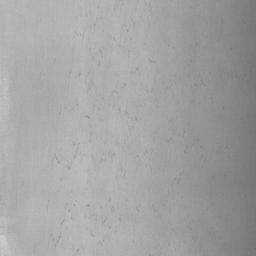Silk spot: (50, 232, 62, 248)
